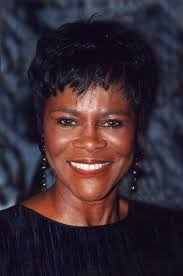black_female: (17, 21, 180, 229)
